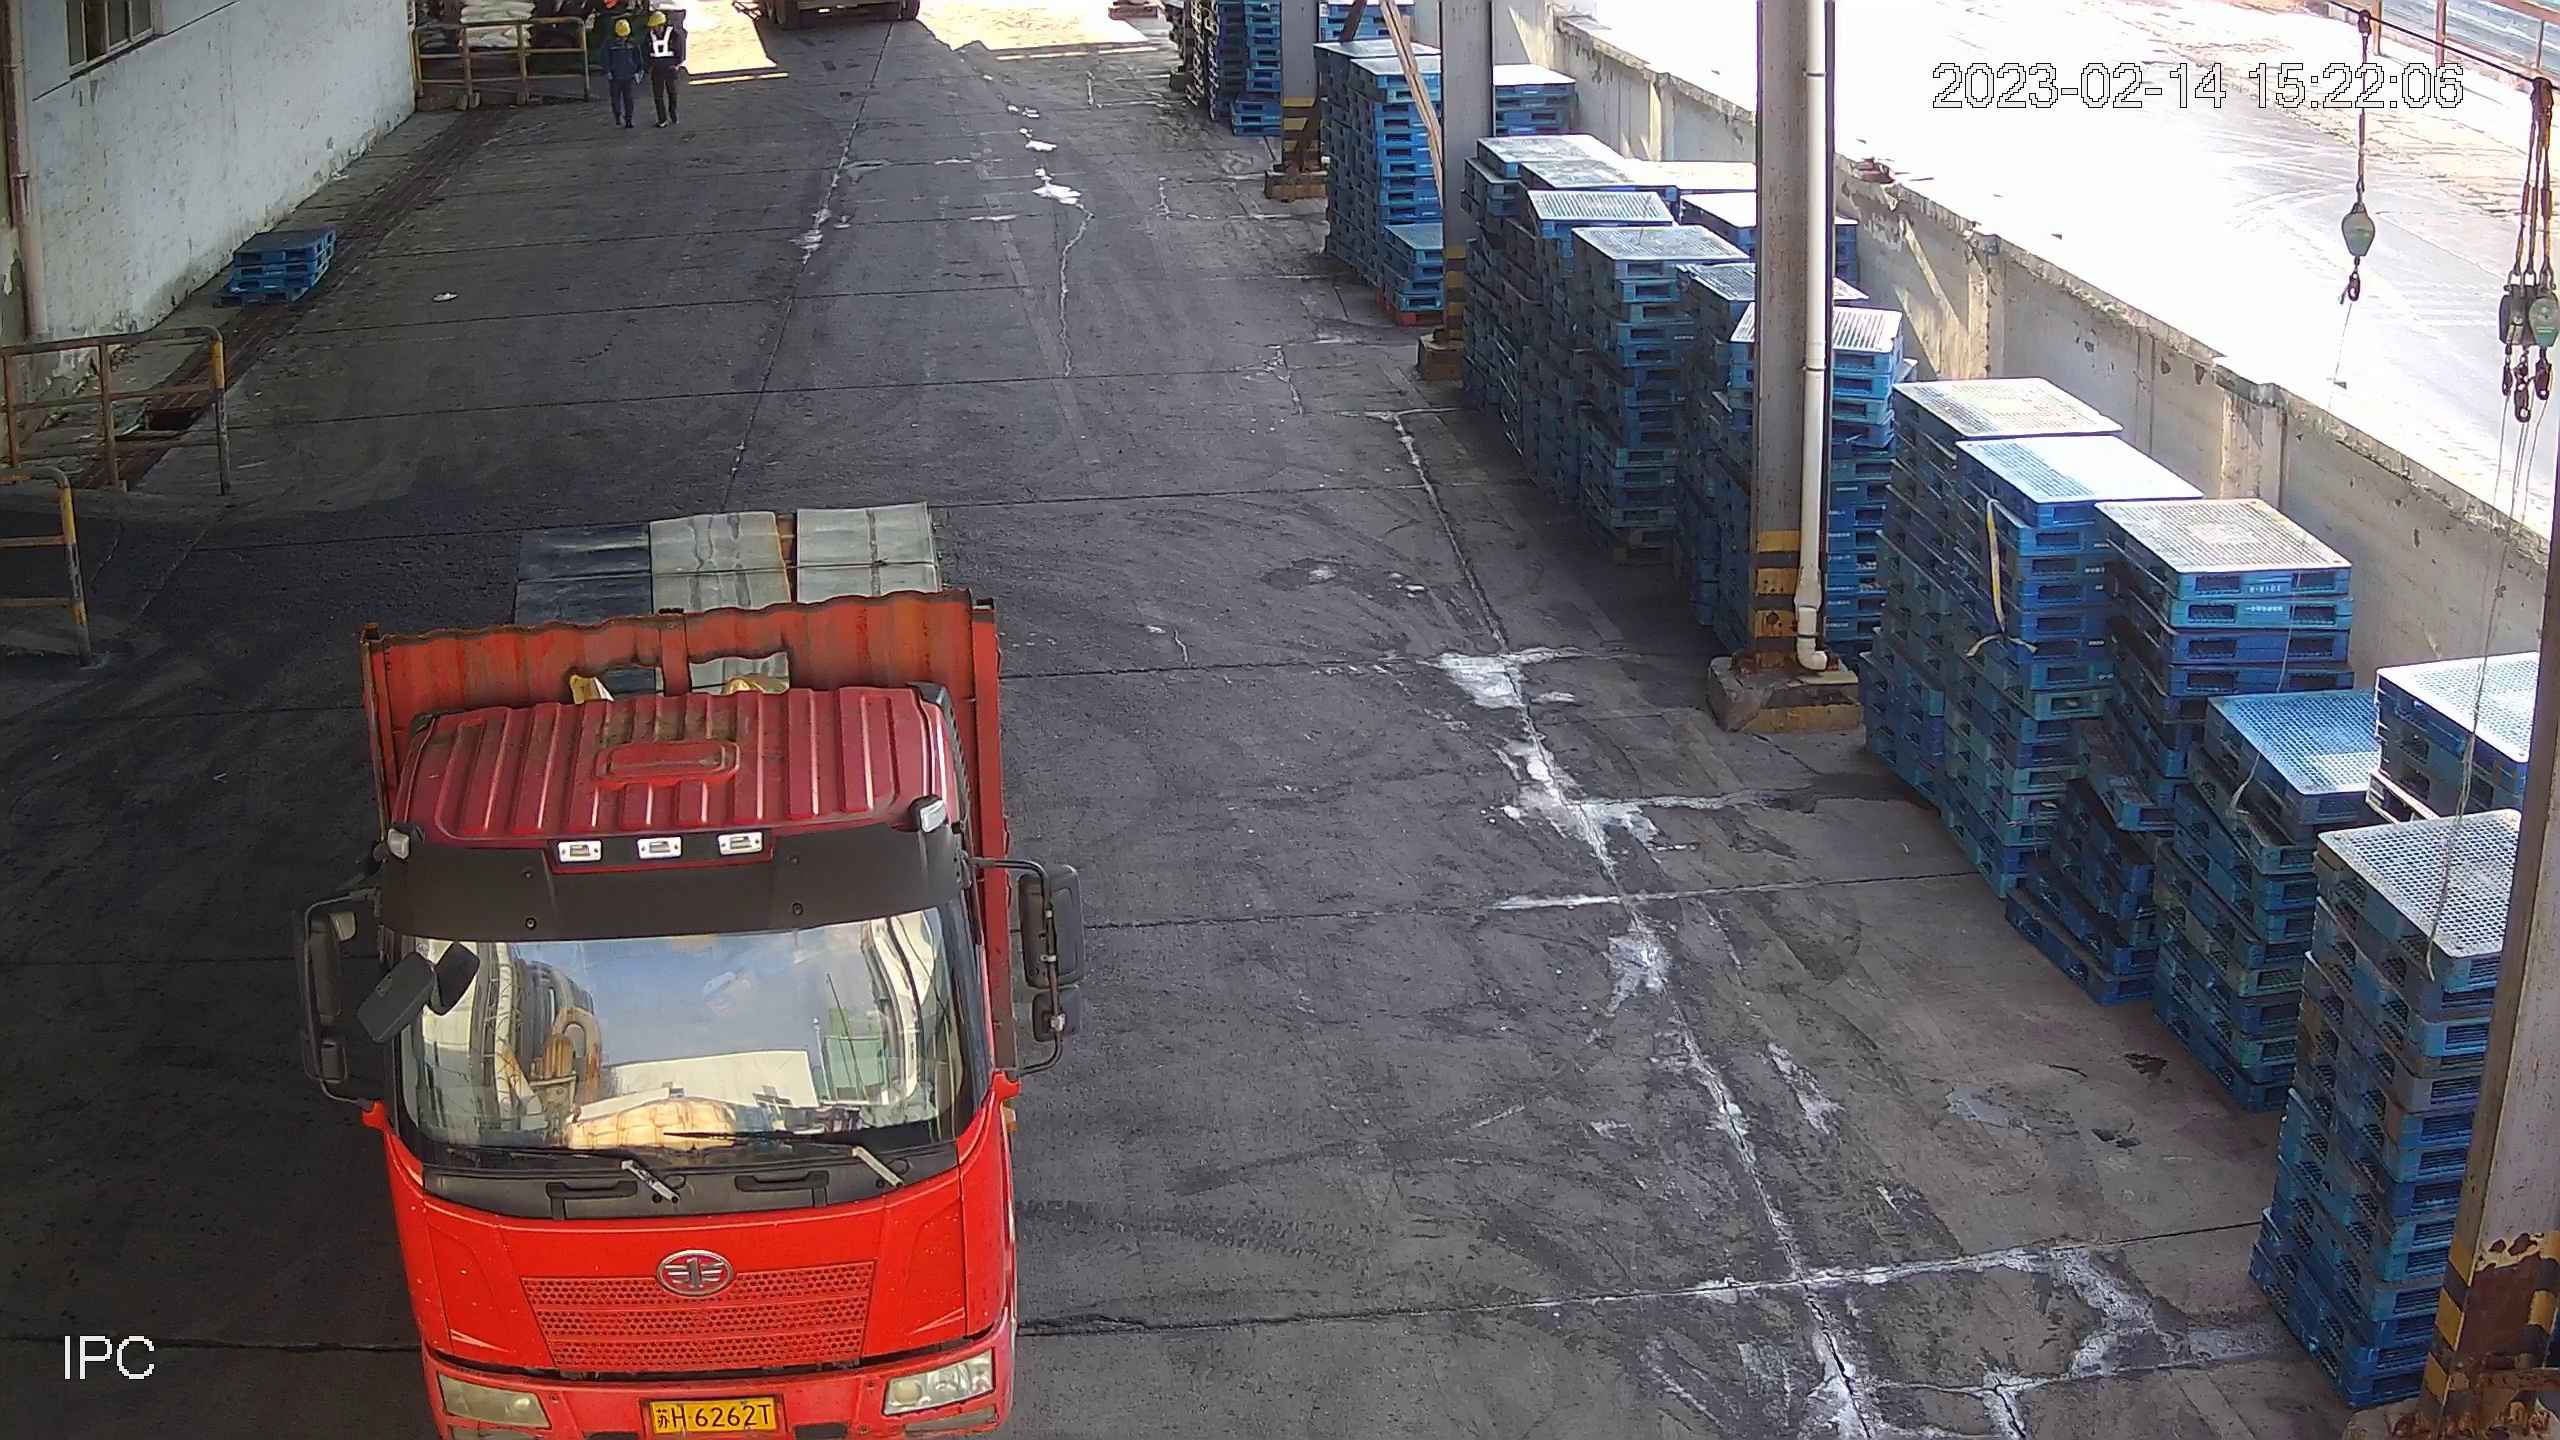head: (645, 10, 685, 67), (599, 18, 639, 63)
helmet: (614, 20, 631, 36), (648, 10, 665, 25)
people: (599, 18, 643, 134), (640, 10, 683, 129)
truck: (284, 500, 1095, 1440)
